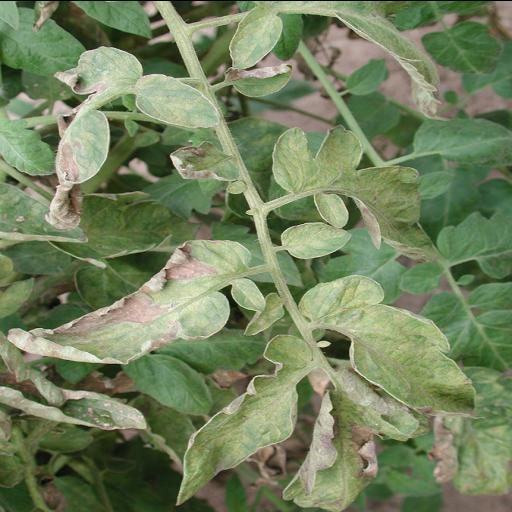Leaf Mold: (4, 236, 254, 366), (293, 272, 481, 420), (270, 118, 442, 266), (171, 332, 315, 506), (36, 40, 136, 226), (133, 68, 227, 134), (230, 0, 290, 70), (277, 214, 353, 260)
